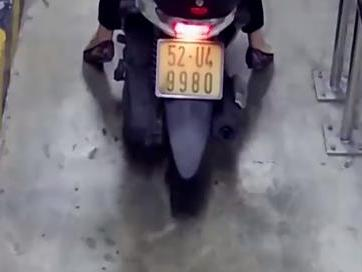num_plate: (156, 40, 223, 97)
